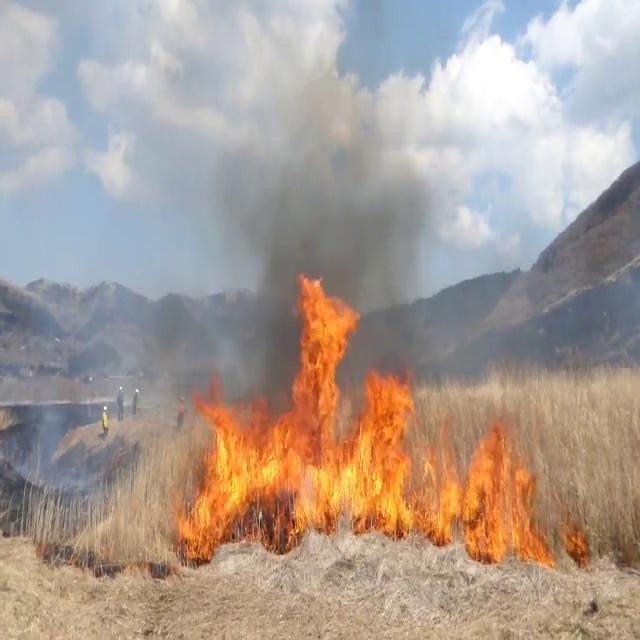Fire: (176, 268, 434, 552), (439, 418, 555, 566)
Smoke: (182, 70, 440, 366)
